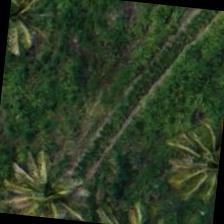Kelapa_Sawit: (0, 141, 95, 223), (156, 116, 224, 212), (5, 0, 60, 61)
